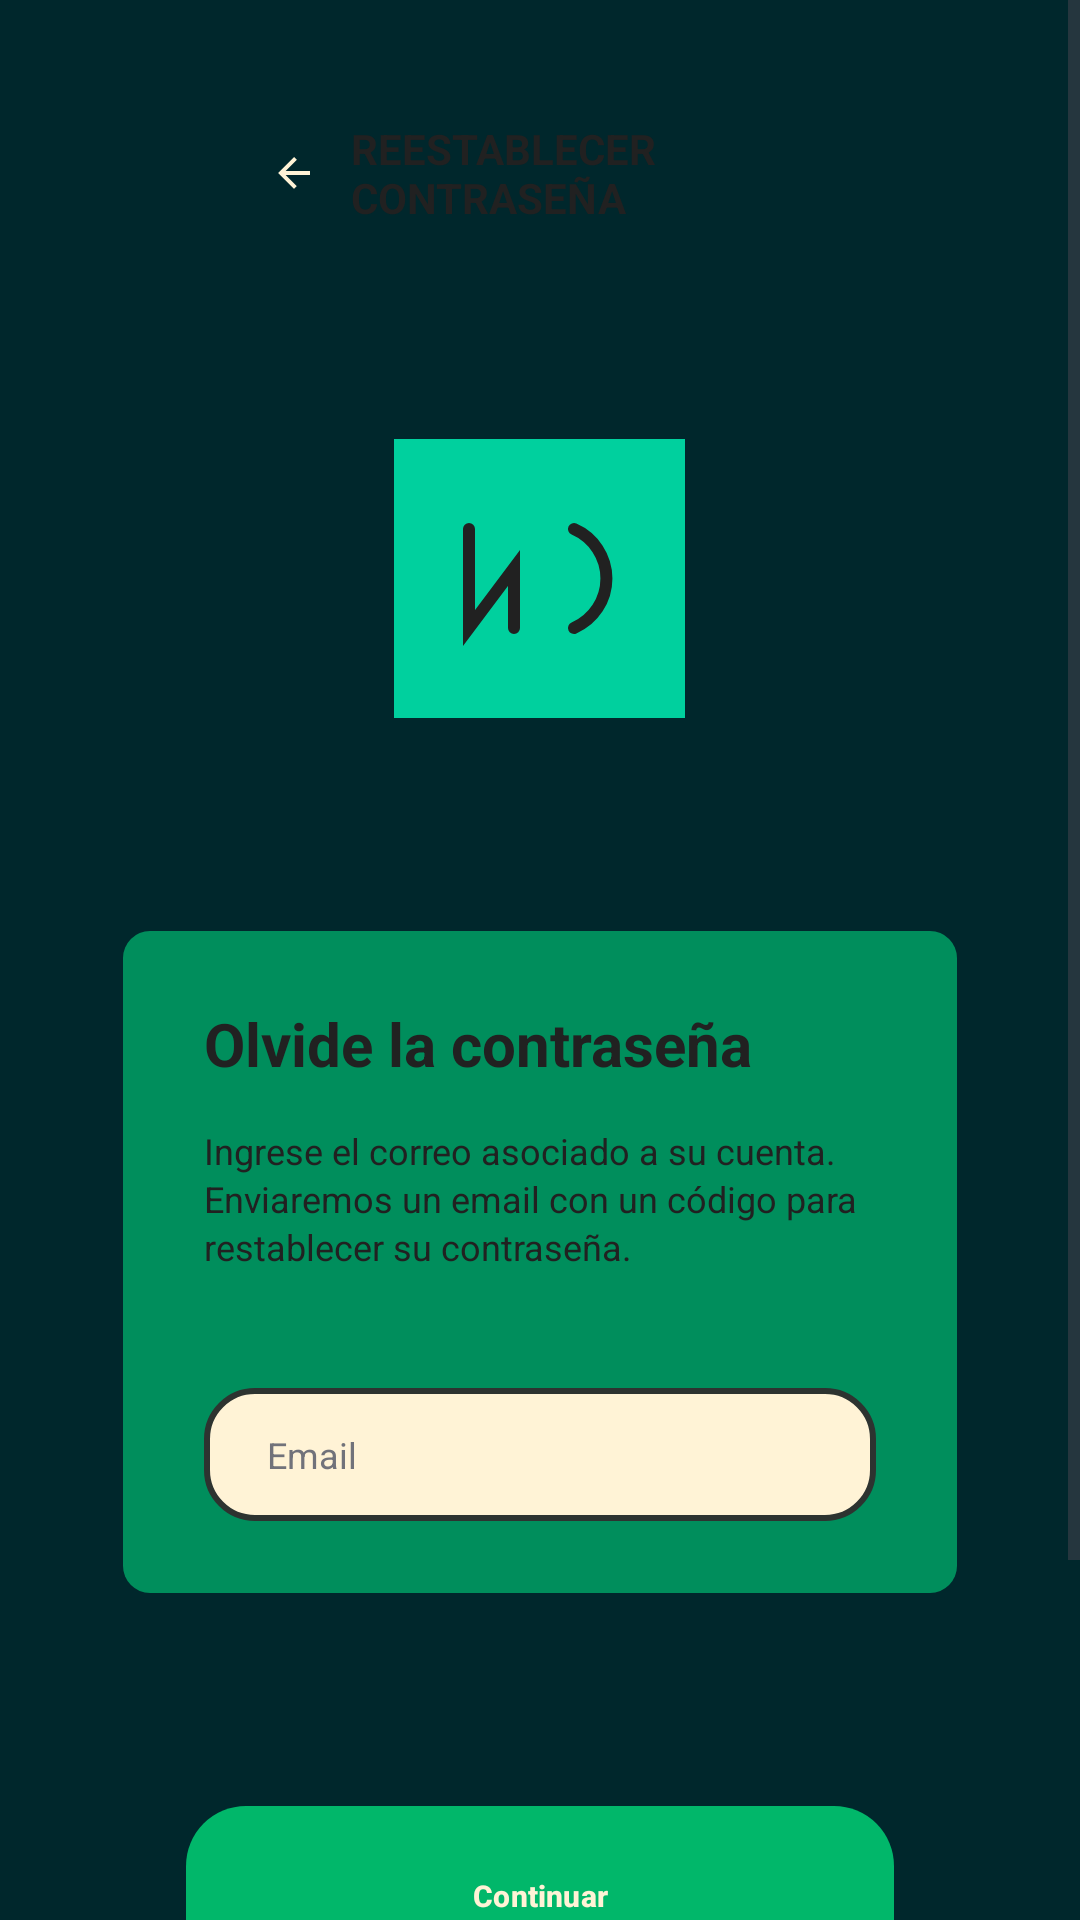

Icons on this 1080px x 1920px Android screen, each with its box as (x1,y1,x2,y2):
Botón de retroceso: (278,157,310,189)
